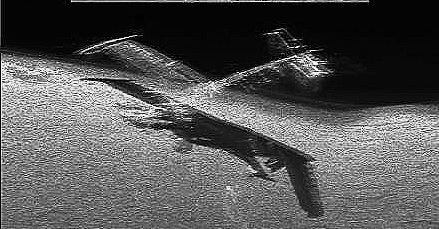plane: (82, 29, 336, 131)
